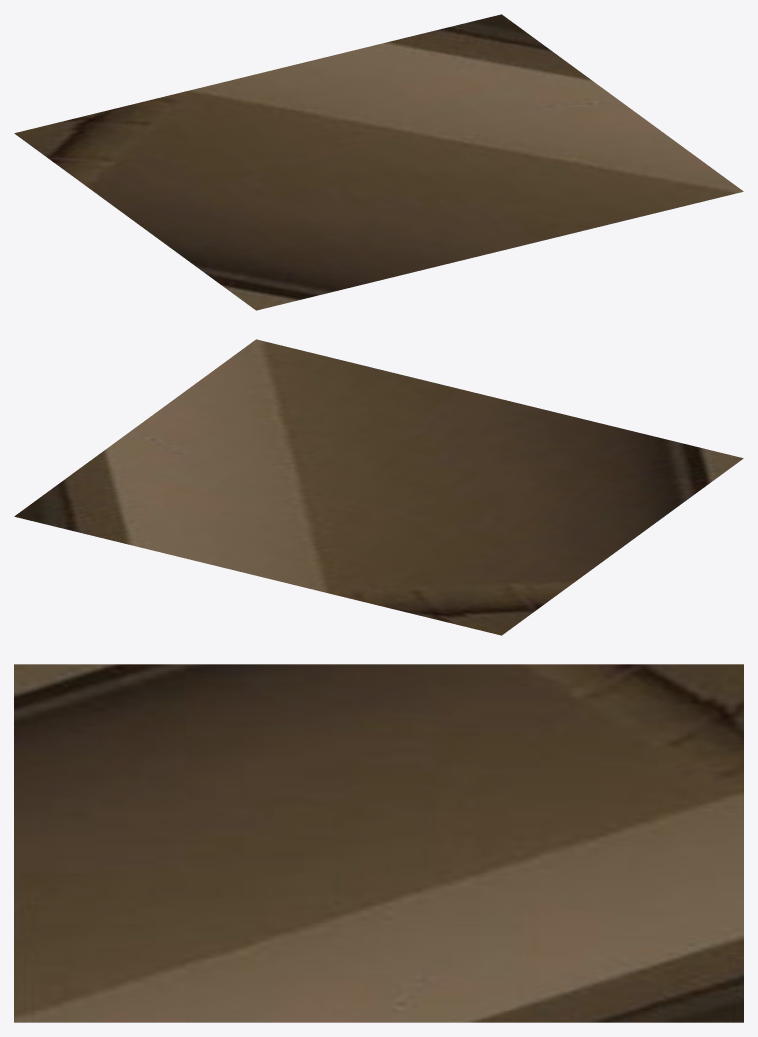
The picture shows the model from 3 angles, top to bottom: view 1: azimuth 30°, elevation 25°; view 2: azimuth 150°, elevation 25°; view 3: azimuth 270°, elevation 25°; orthographic projection. The views are drawn at different scales.
Bounding box in the file's own units: 1.99 × 3.24e-05 × 1.71.
Materials: 1 (1 with a texture image).
